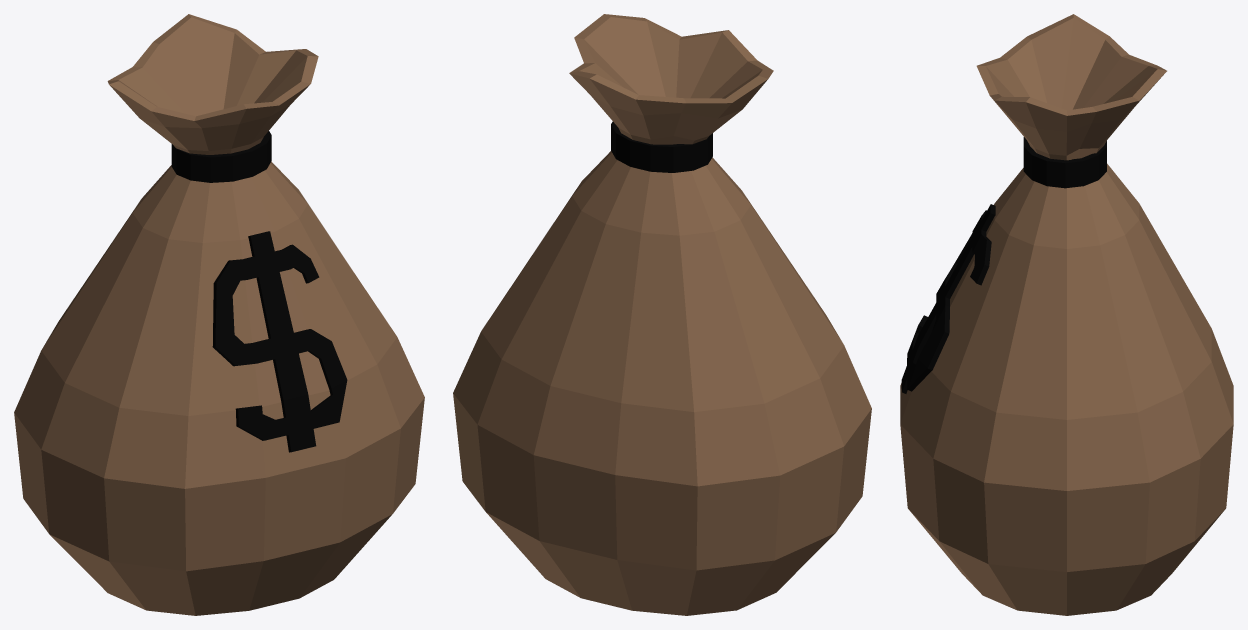
File: PP_Money_Bag_Corded_02.fbx
The picture shows the model from 3 angles, left to right: view 1: azimuth 30°, elevation 25°; view 2: azimuth 150°, elevation 25°; view 3: azimuth 270°, elevation 25°; orthographic projection. The views are drawn at different scales.
Visible parts, largest first — view 1: PP_Money_Bag_Corded_02; view 2: PP_Money_Bag_Corded_02; view 3: PP_Money_Bag_Corded_02.
Part boxes in pixels (x1,y1,x2,y2): PP_Money_Bag_Corded_02: [14, 14, 424, 615]; PP_Money_Bag_Corded_02: [453, 14, 871, 615]; PP_Money_Bag_Corded_02: [900, 14, 1233, 615].
Size of the model in its own units: 57.18 by 77.65 by 46.84.
